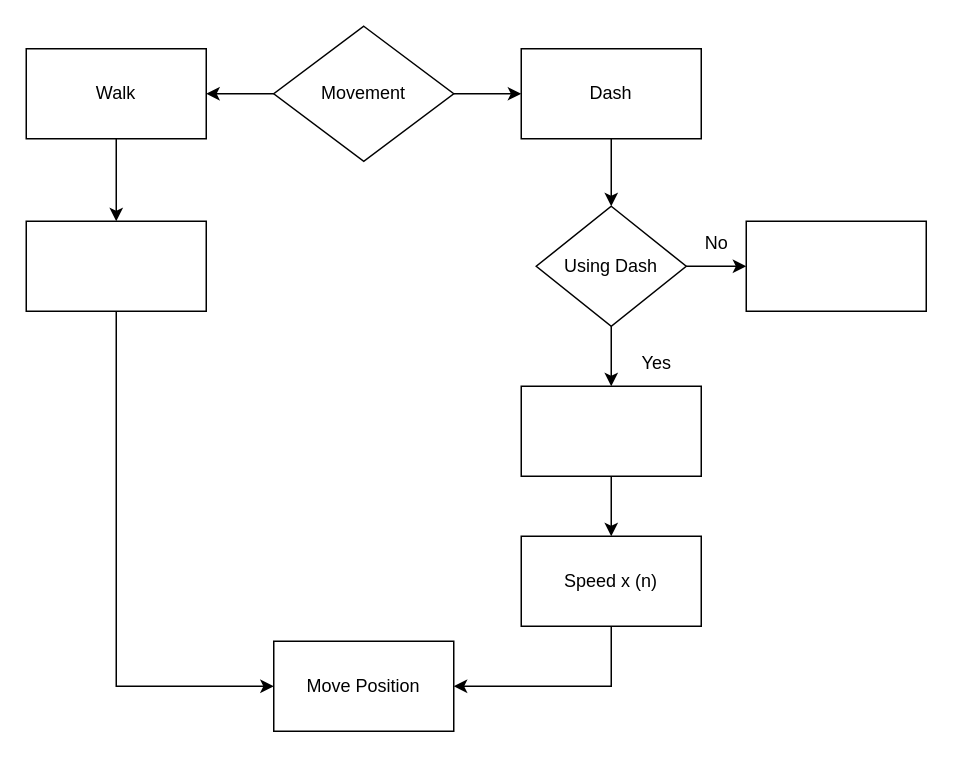
Image size: 953x758. Some labels were removed from this diagram. The centre of each missing label's shape, as x and y in pixels:
Default Speed: (x=115, y=265)
Refill Dash Energy: (x=835, y=265)
Use Dash Energy: (x=610, y=430)
